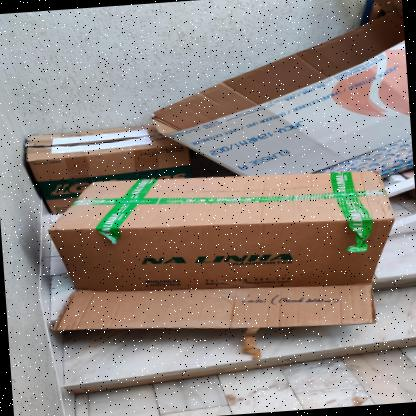Corrugated carton: (48, 171, 395, 330), (150, 10, 413, 180), (25, 124, 192, 215)
Styrofoam piece: (384, 177, 415, 198), (382, 174, 406, 187)
